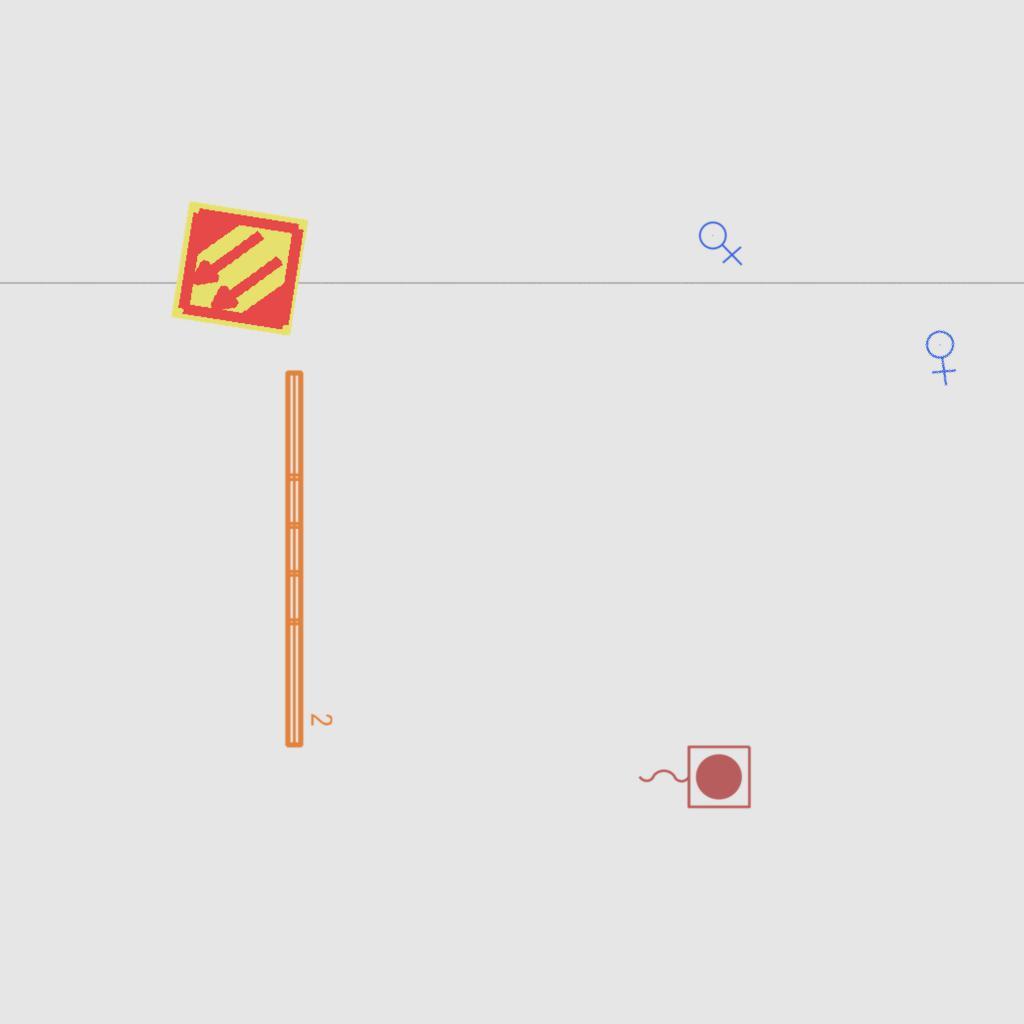ASR_Ansaugrauchmelder: (167, 196, 312, 341)
Ambulanz_Pendelleuchte_LED: (279, 365, 335, 752)
Elektroanschluss_allgemein_230V_Geraeteanschlussdose_230V: (910, 320, 977, 389), (698, 217, 745, 266)
Zugtaster: (633, 740, 755, 812)
